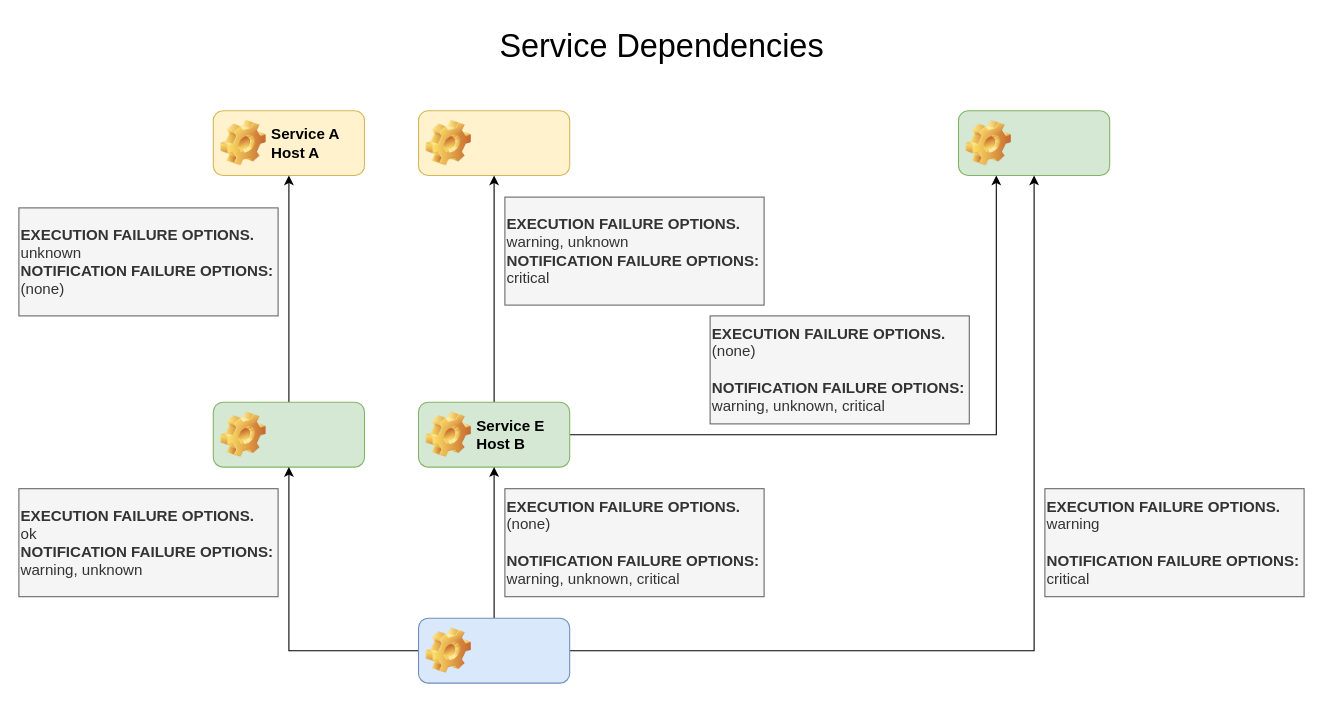
Image size: 1323x702. Some labels were removed from this diagram. Each missing label, with the centre of its shape:
"Service B Host A" goes at point (493, 143).
"Service C Host B" goes at point (1033, 143).
"Service D Host B" goes at point (288, 434).
"Service F Host C" goes at point (493, 650).
